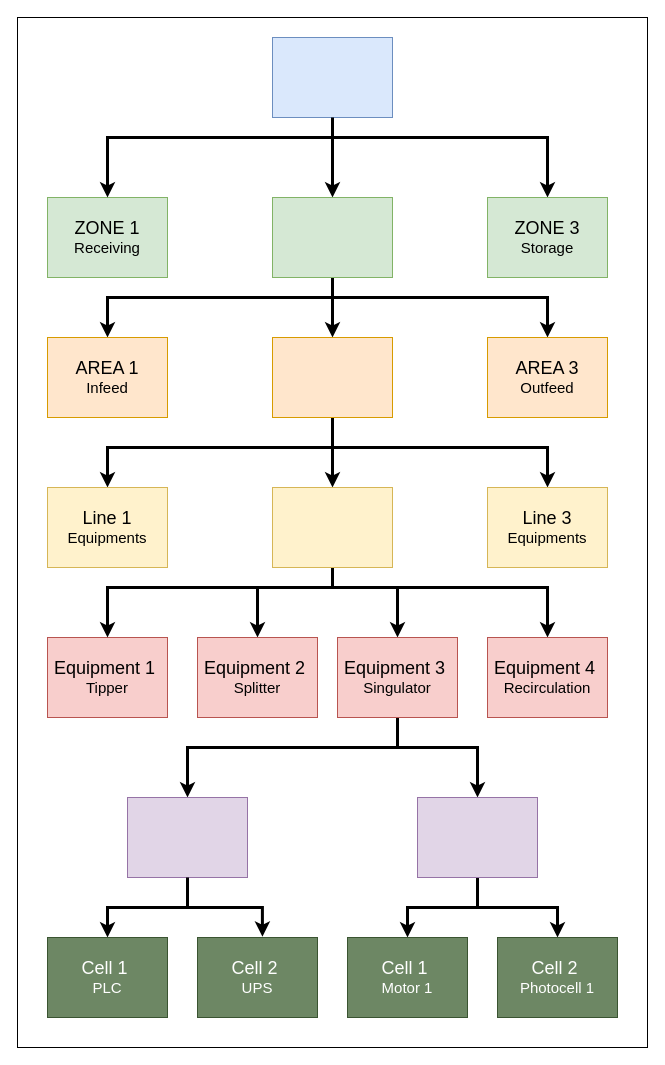
The diagram is 665 pixels wide and 1065 high, and some of its shapes have lost their labels. Each missing label, with the box of its shape:
AREA 2 Process: (272, 336, 392, 418)
Line 2 Equipments: (272, 486, 392, 568)
SITE 1: (272, 36, 392, 118)
Unit 1 Control Cabinet: (126, 796, 248, 878)
Unit 2 Field Devices: (416, 796, 538, 878)
ZONE 2 Production: (272, 196, 392, 278)
